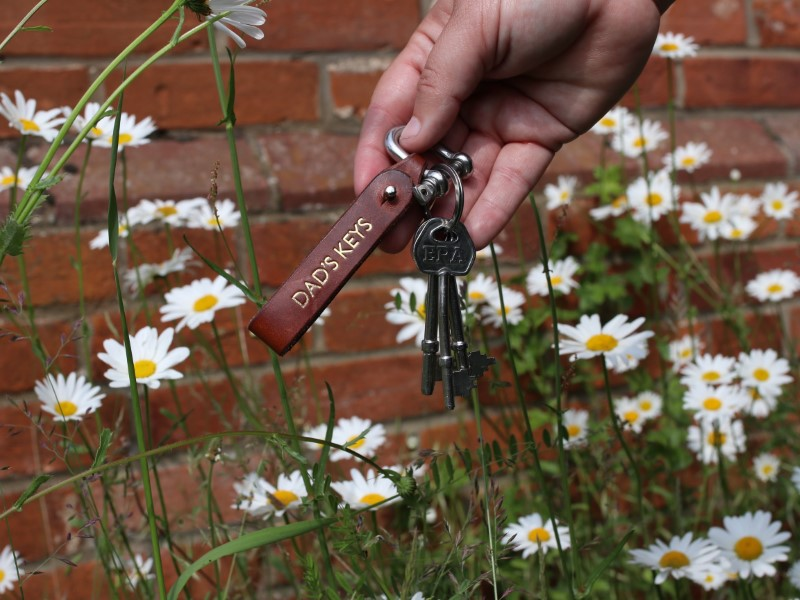key: (413, 212, 496, 414)
